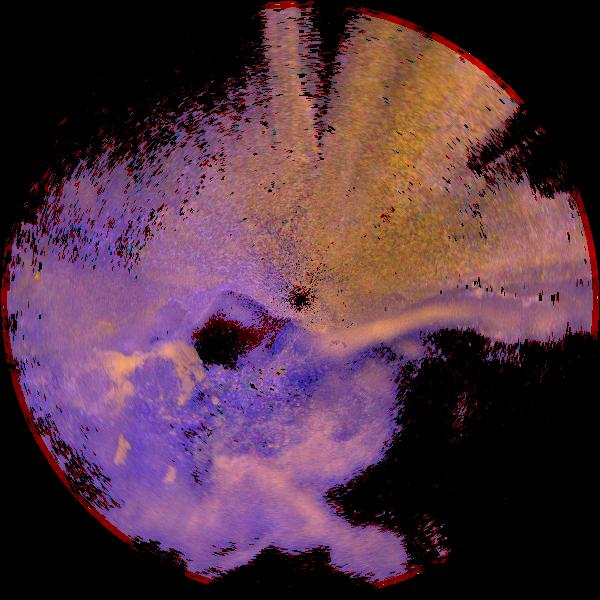roost: (62, 346, 140, 424), (127, 336, 202, 411), (128, 427, 191, 490), (82, 419, 136, 473)
